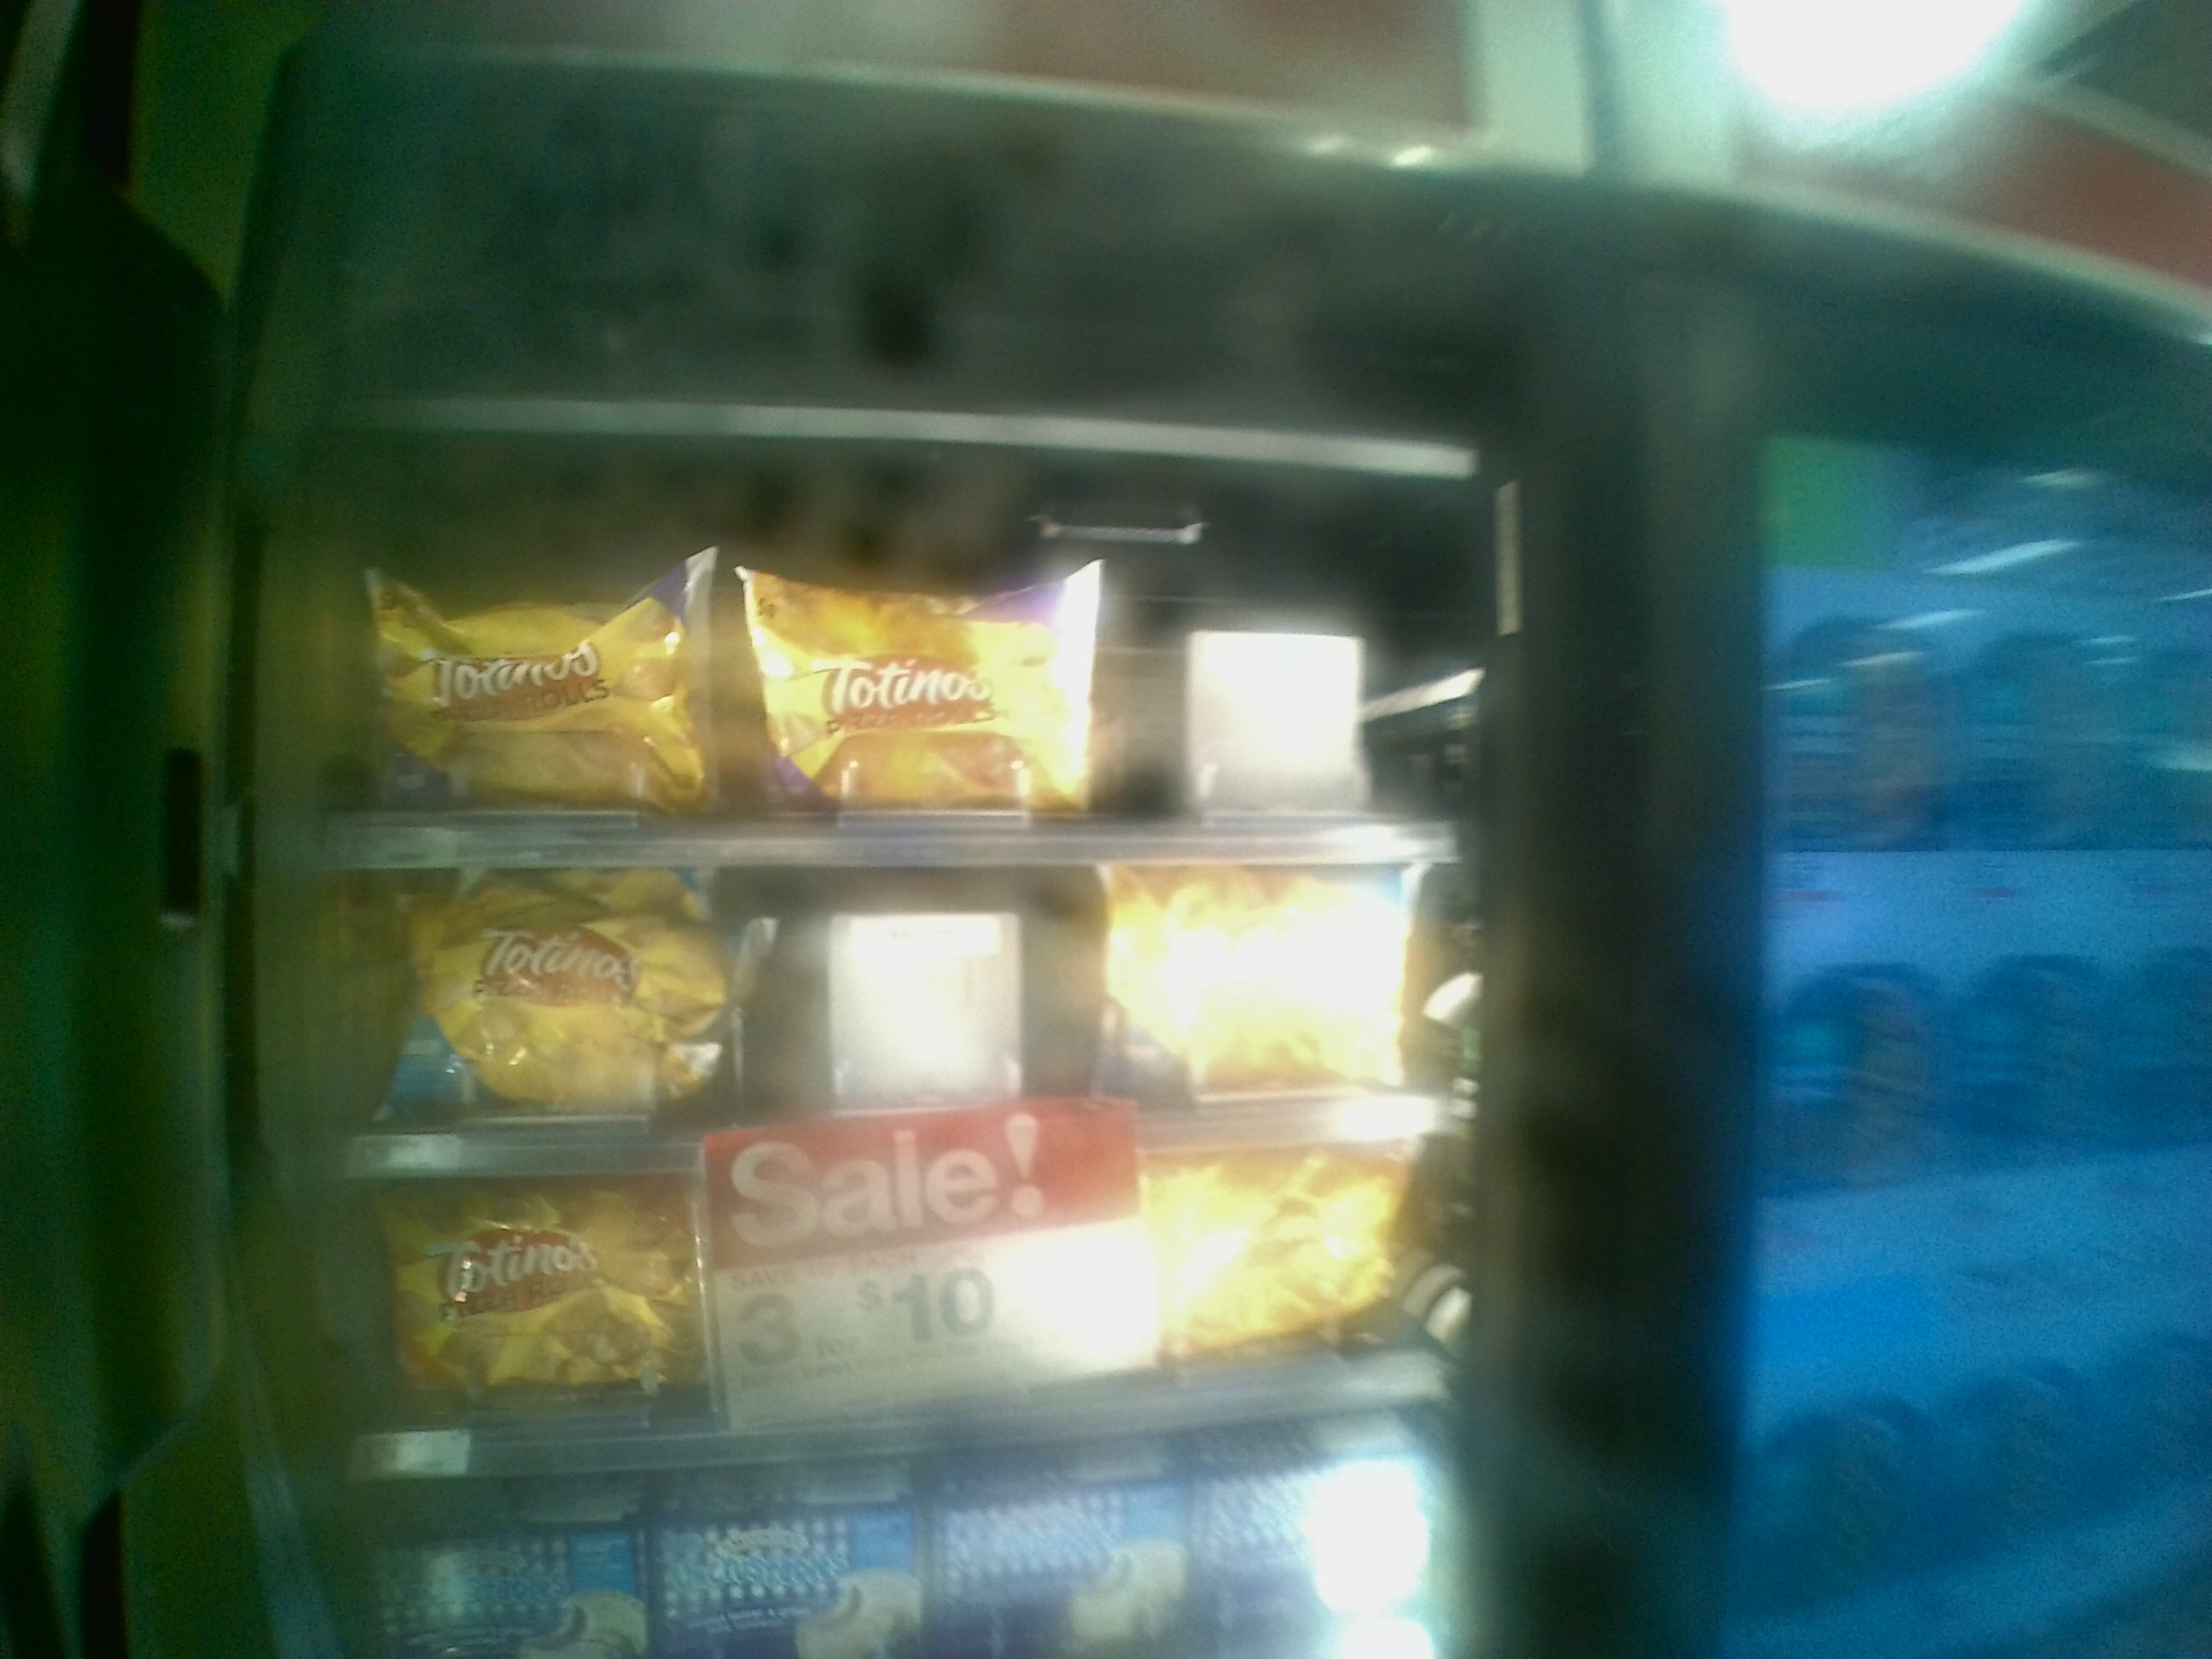shelf: (329, 476, 1489, 866), (341, 1176, 1480, 1474), (324, 873, 1475, 1164)
